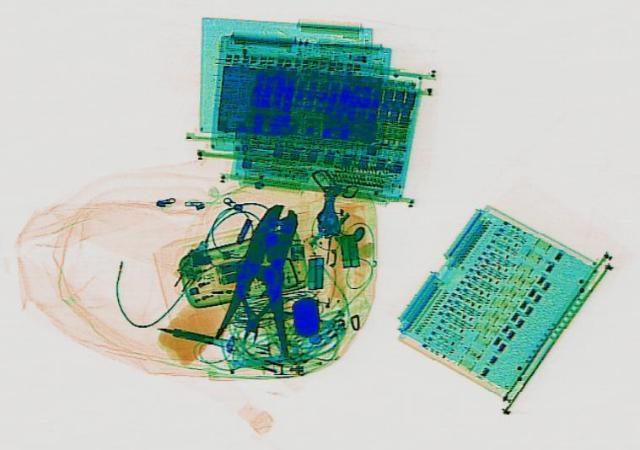Pliers: (208, 198, 326, 353), (224, 272, 284, 343)
